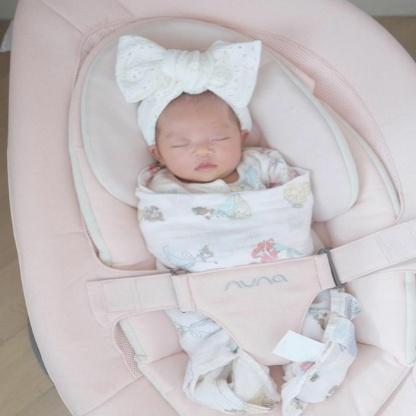baby: (138, 85, 292, 201)
